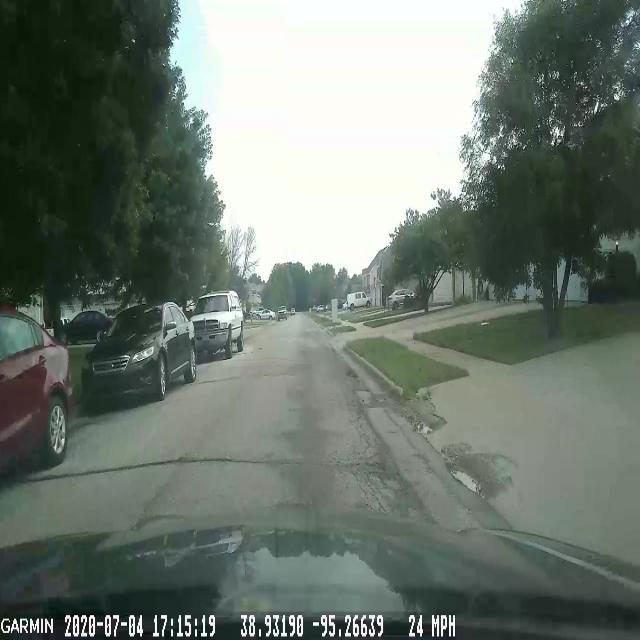Pothole: (440, 450, 504, 509), (400, 402, 450, 437)
